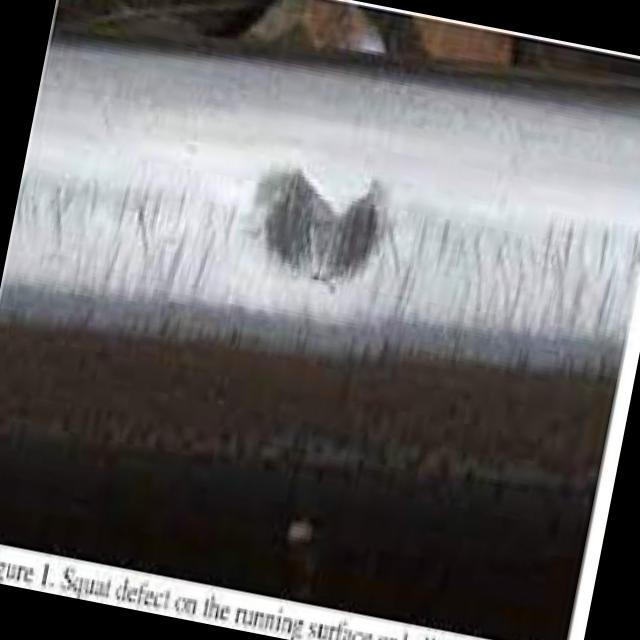defective: (0, 89, 640, 440)
